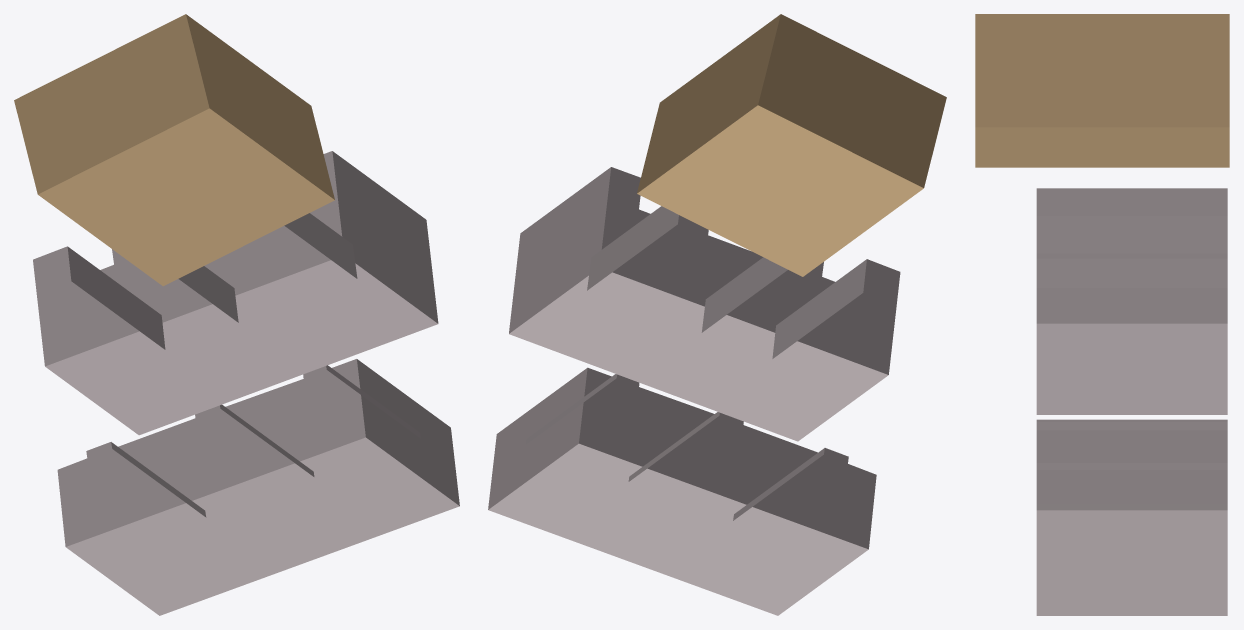
3 views of the same model, side by side, from view 1: azimuth 30°, elevation 25°; view 2: azimuth 150°, elevation 25°; view 3: azimuth 270°, elevation 25° (orthographic). The views are drawn at different scales.
Parts seen in each view (by area): view 1: 0_1_0_1_3_3_0_3_3; view 2: 0_1_0_1_3_3_0_3_3; view 3: 0_1_0_1_3_3_0_3_3.
Boxes of the visible parts, x1=… form: 0_1_0_1_3_3_0_3_3: x1=14, y1=14, x2=459, y2=615; 0_1_0_1_3_3_0_3_3: x1=488, y1=14, x2=946, y2=615; 0_1_0_1_3_3_0_3_3: x1=975, y1=14, x2=1229, y2=615.
Bounding box in the file's own units: 38.75 × 53.05 × 24.
